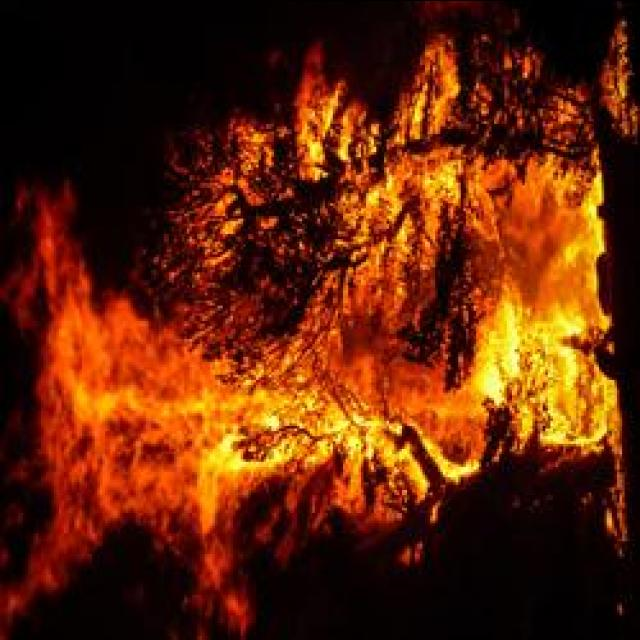fire: (484, 314, 534, 376), (542, 288, 600, 338)
